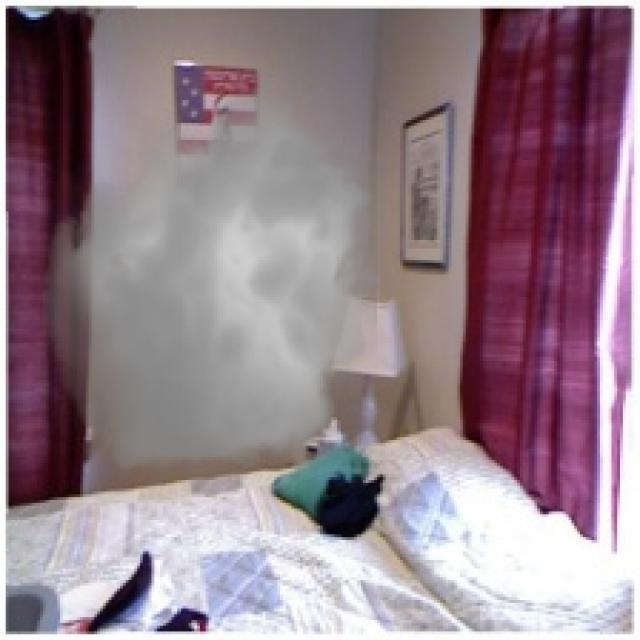Smoke: (32, 74, 394, 492)
